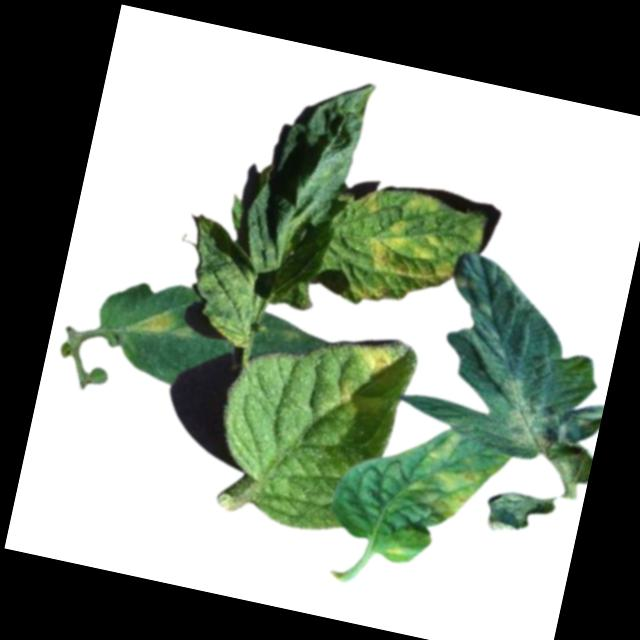Leaf_Mold: (351, 216, 462, 321), (406, 425, 502, 529), (483, 373, 568, 454), (347, 337, 394, 376), (130, 304, 178, 340), (355, 187, 381, 218), (333, 376, 352, 401)
